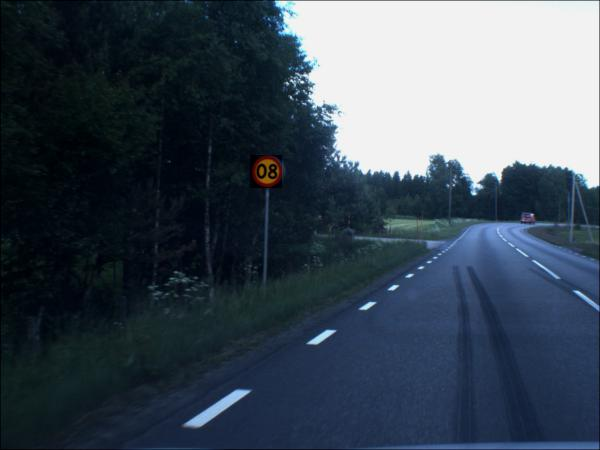80_SIGN: (250, 156, 283, 190)
